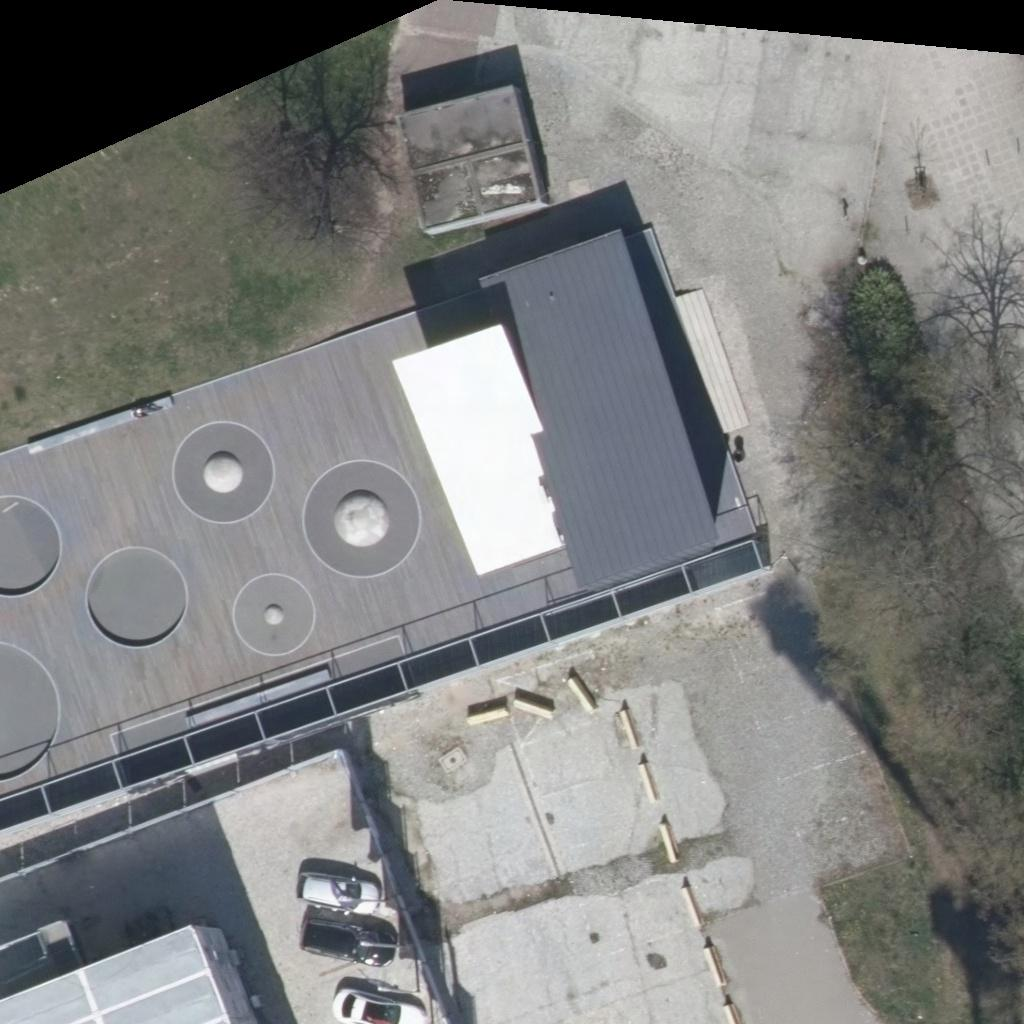samochod_osobowy: (300, 907, 397, 966), (299, 865, 381, 913), (332, 985, 427, 1023)
